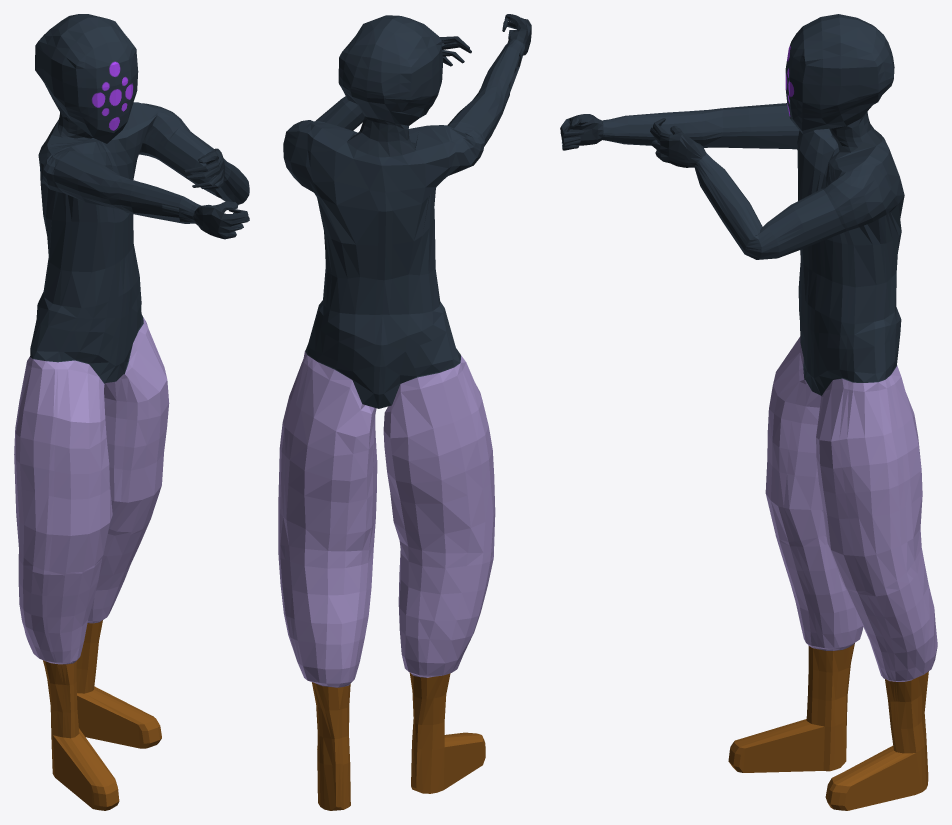
The model's file is Oracle_Attack_000011.obj.
The picture shows the model from 3 angles, left to right: view 1: azimuth 30°, elevation 25°; view 2: azimuth 150°, elevation 25°; view 3: azimuth 270°, elevation 25°; orthographic projection. The views are drawn at different scales.
Parts seen in each view (by area): view 1: Cube; view 2: Cube; view 3: Cube.
Boxes of the visible parts, x1,y1,x2,y2 form: Cube: (14, 14, 249, 810); Cube: (278, 14, 531, 810); Cube: (560, 14, 937, 810).
Bounding box in the file's own units: 1.11 × 3.94 × 1.76.
